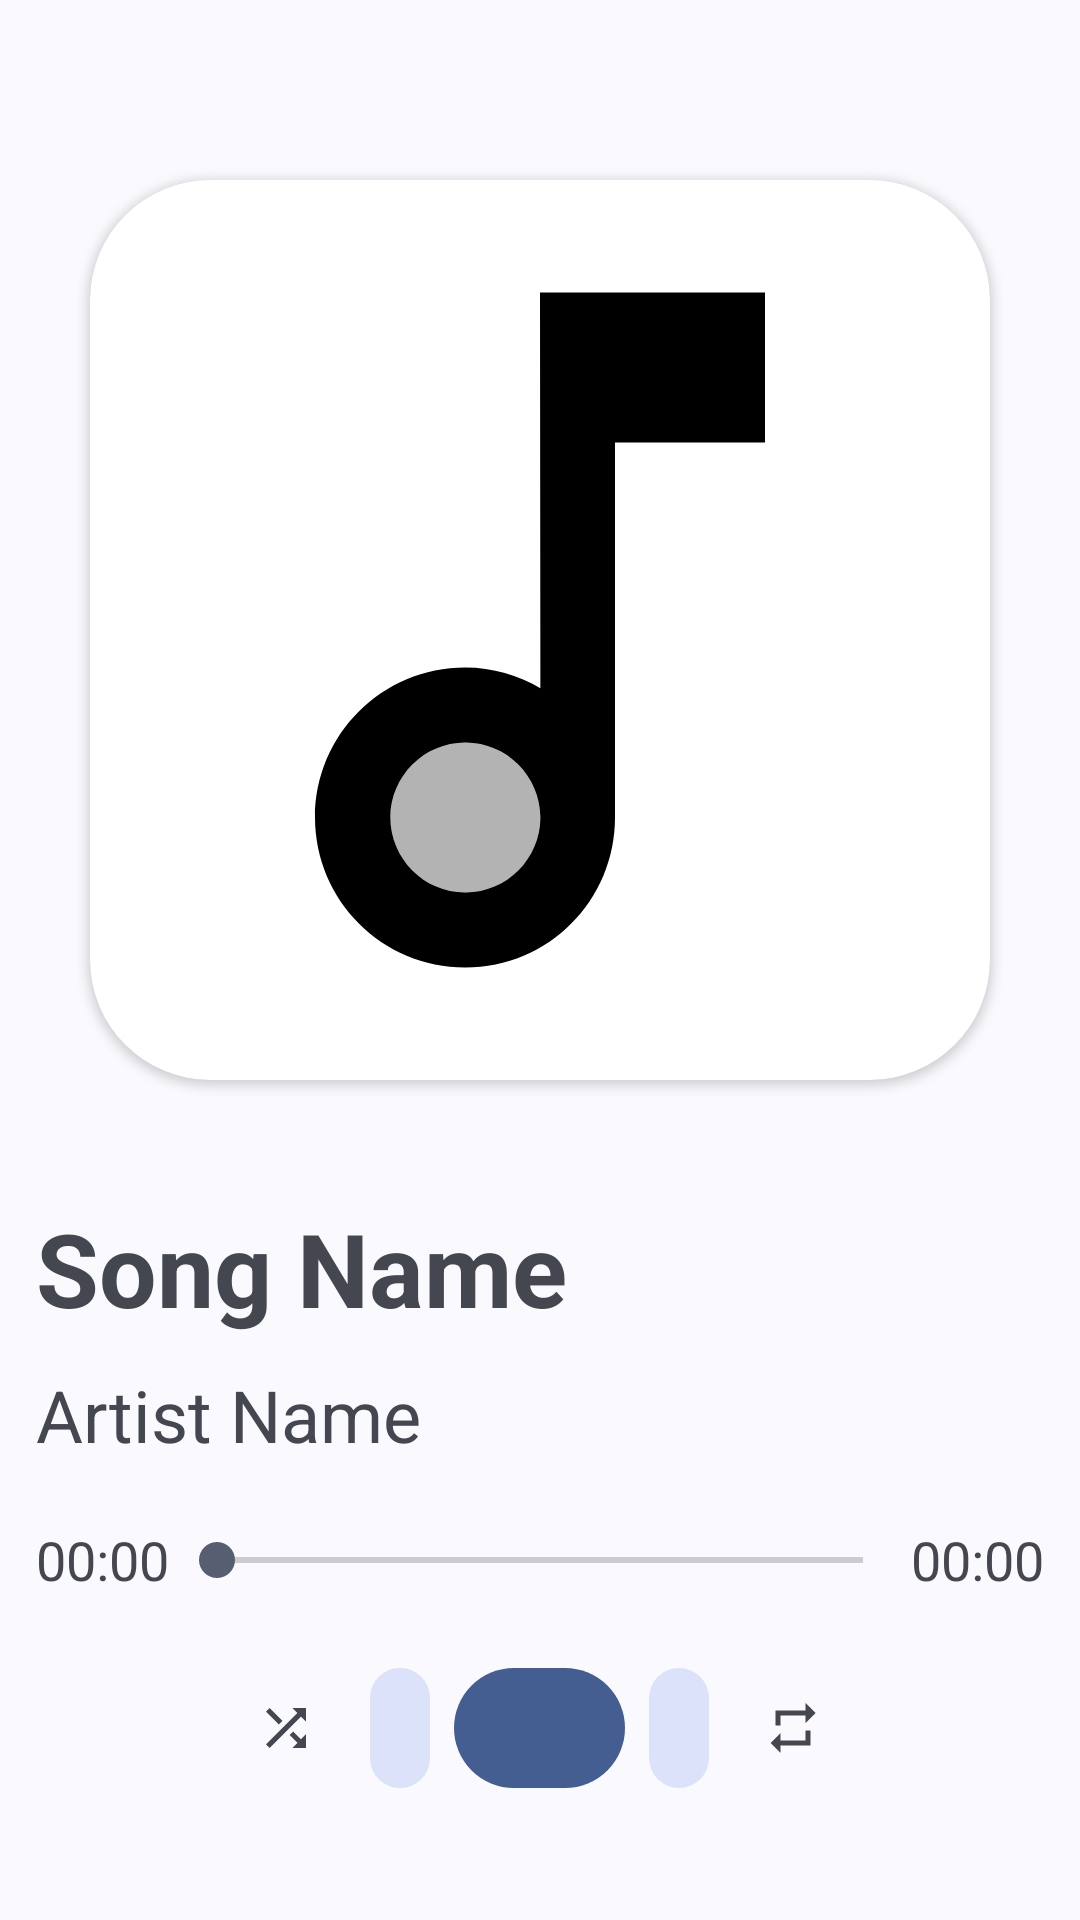

Icon click points for this 1080x1920 phone screenshot, format (x,y):
Repeat Music: (793,1728)
Shuffle Music: (286,1728)
